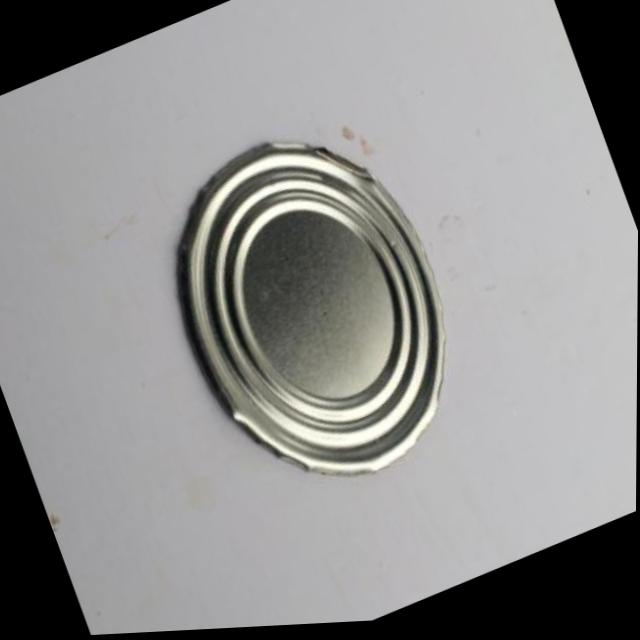metal: (124, 85, 492, 539)
